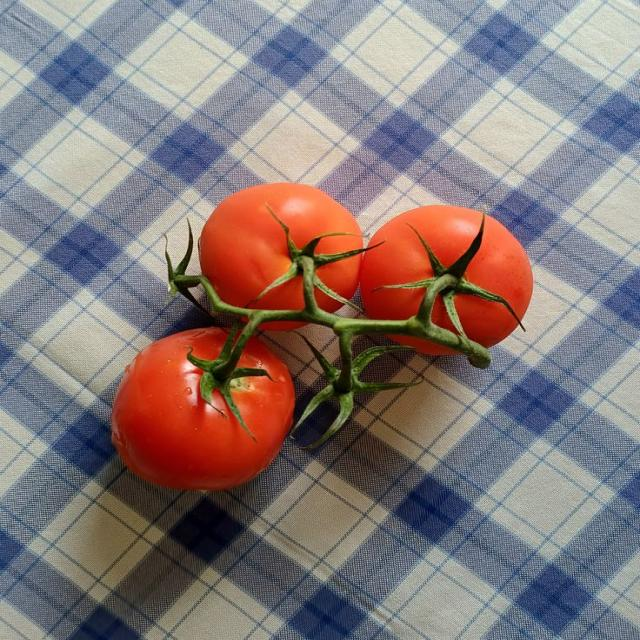tomato: (112, 328, 294, 489), (200, 184, 362, 310), (361, 206, 482, 319)
